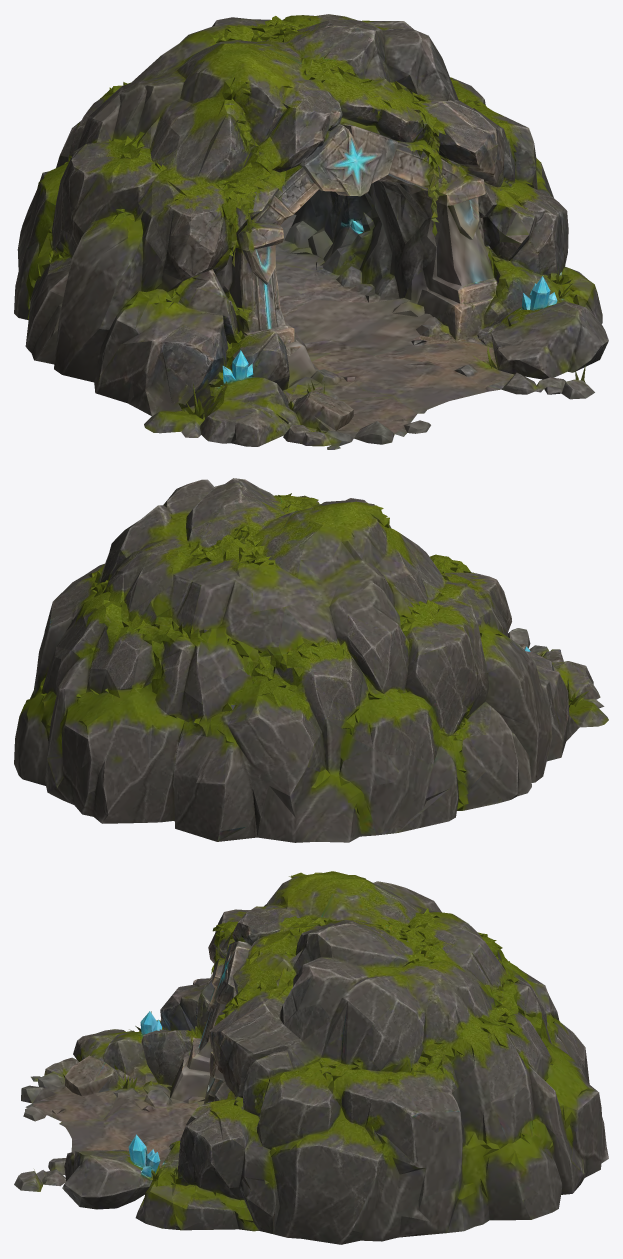
Rendered from cave_entrance.glb.
The picture shows the model from 3 angles, top to bottom: view 1: azimuth 30°, elevation 25°; view 2: azimuth 150°, elevation 25°; view 3: azimuth 270°, elevation 25°; orthographic projection. The views are drawn at different scales.
Visible parts, largest first — view 1: output_unwrapped; view 2: output_unwrapped; view 3: output_unwrapped.
Part boxes in pixels (<box>): output_unwrapped: <box>14,14,608,449</box>; output_unwrapped: <box>14,478,608,842</box>; output_unwrapped: <box>14,871,608,1244</box>.
Bounding box in the file's own units: 1.71 × 0.8282 × 1.9.
Materials: 1 (1 with a texture image).
